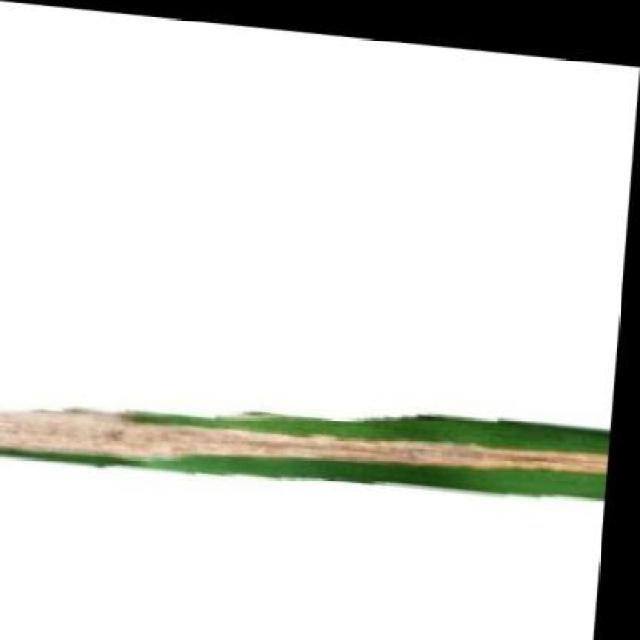Brown_Spot: (0, 353, 617, 510)
